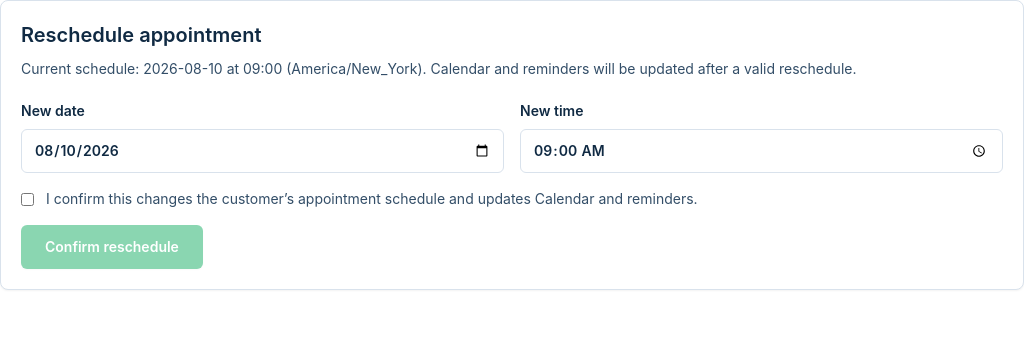
AdminAppointmentReschedule › shows safe calendar-retry feedback after a durable reschedule
Click the checkbox.
click(28, 200)  # box x1=21 y1=193 x2=34 y2=206
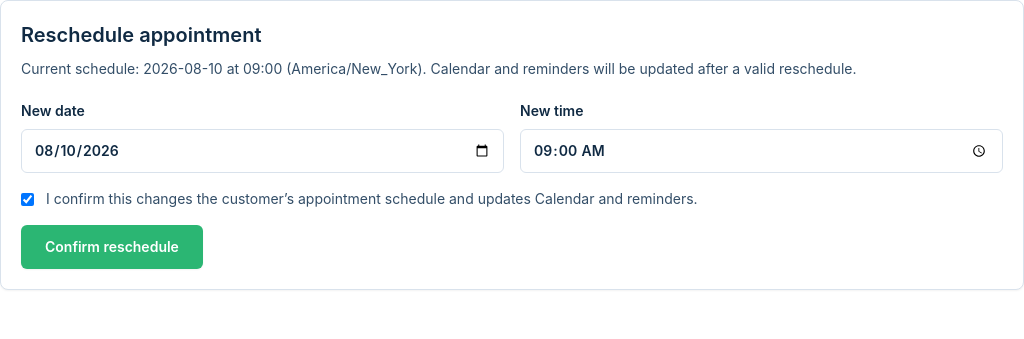
Click the button "Confirm reschedule".
click(112, 247)  # box x1=21 y1=225 x2=203 y2=269
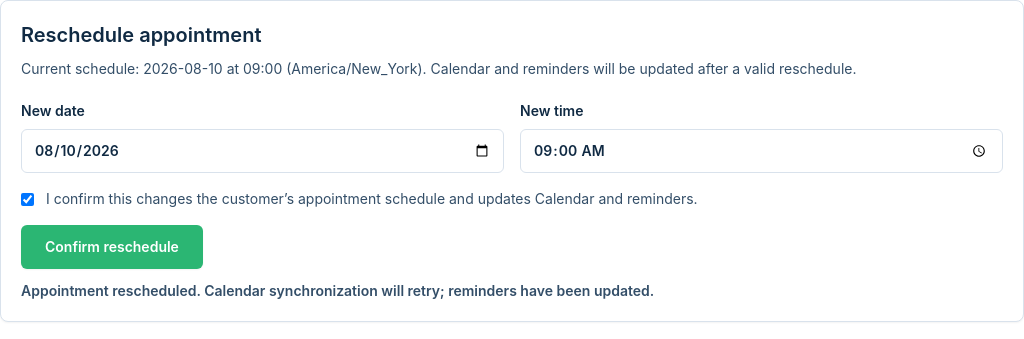
Result: the text "Appointment rescheduled. Calendar synchronization will retry; reminders have been updated." is shown at x1=21 y1=282 x2=654 y2=299
